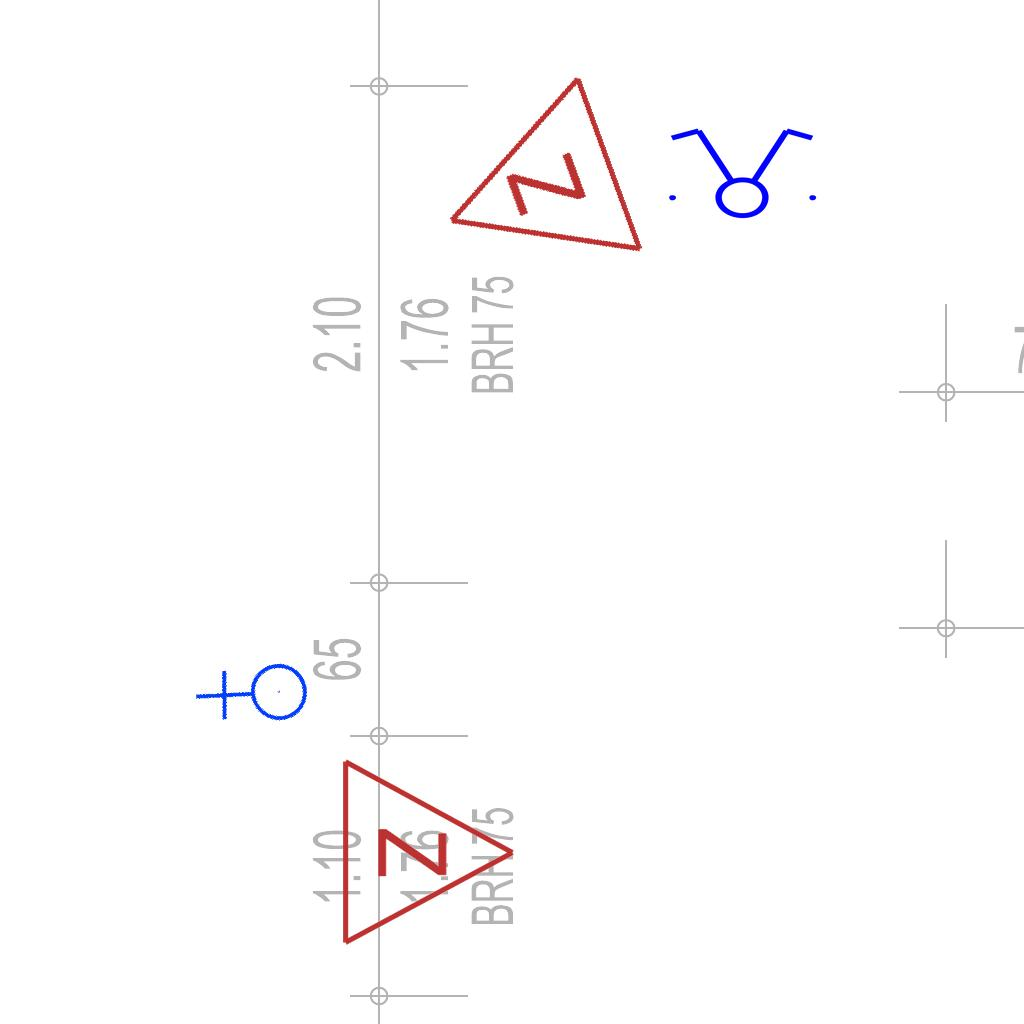Elektroanschluss_allgemein_230V_Geraeteanschlussdose_230V: (190, 629, 327, 765)
Serienschalter: (657, 124, 825, 220)
Zimmersignalleuchte: (404, 67, 660, 321), (328, 752, 528, 948)
